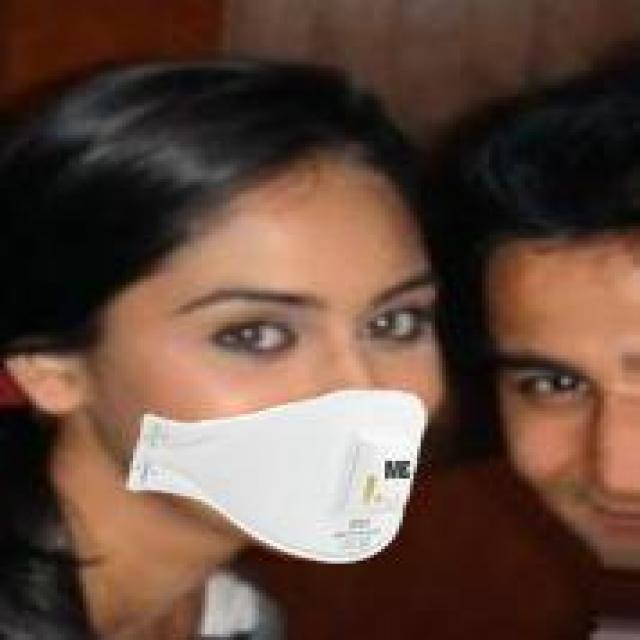mask: (54, 91, 485, 581)
